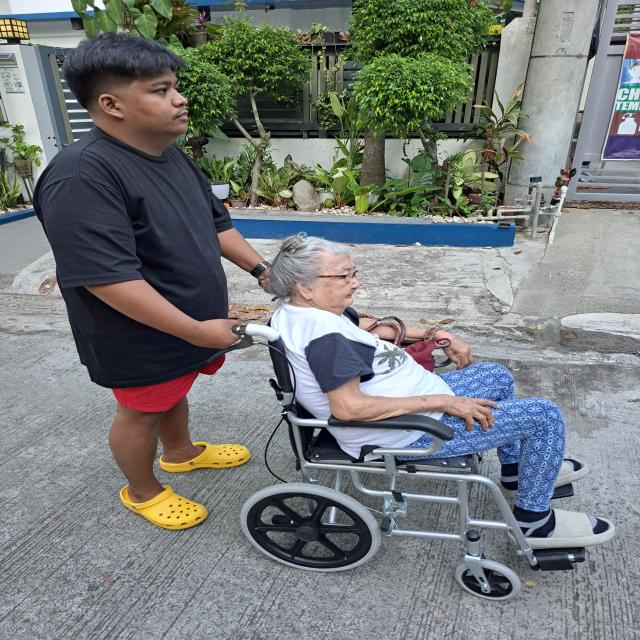wheelchairs: (220, 291, 595, 607)
